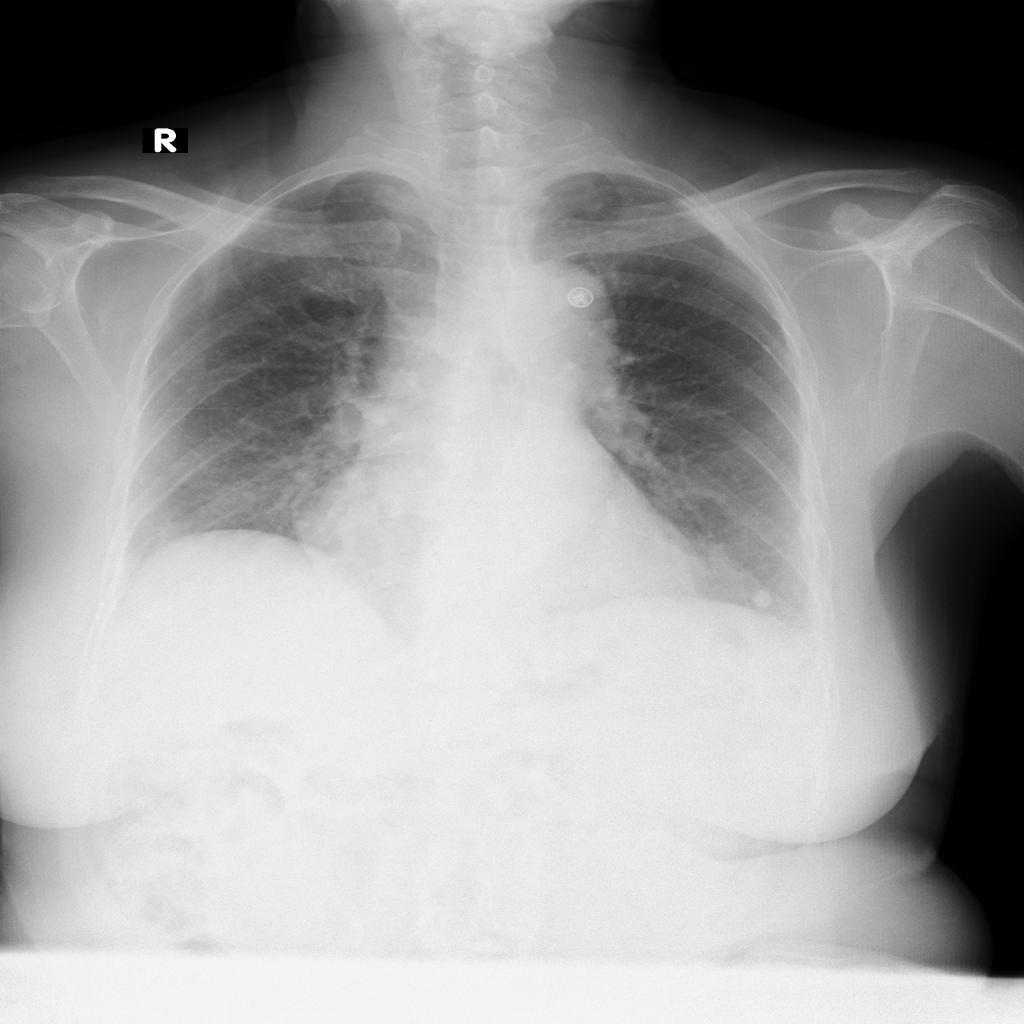Nodule: (753, 591, 774, 612)
